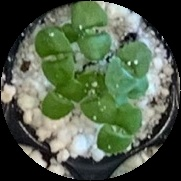Basil: (99, 100, 143, 154), (74, 2, 113, 60), (33, 30, 74, 85), (109, 39, 147, 93), (40, 77, 85, 121), (79, 71, 113, 123)
